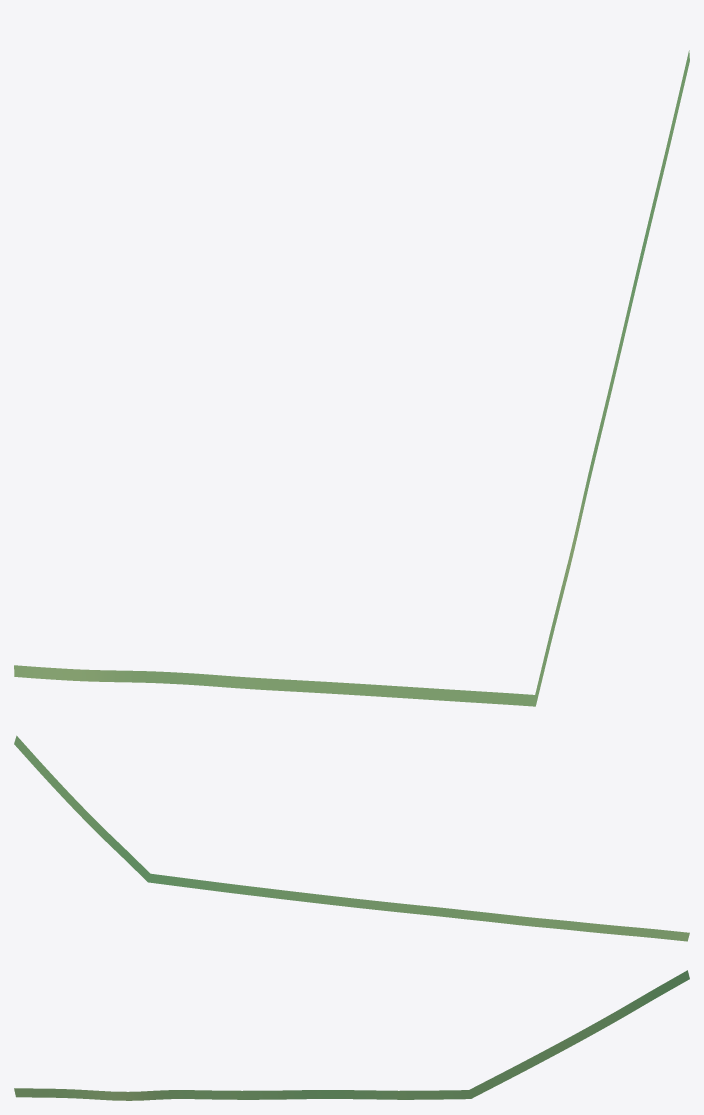
3 renders of one model, top to bottom at view 1: azimuth 30°, elevation 25°; view 2: azimuth 150°, elevation 25°; view 3: azimuth 270°, elevation 25°, orthographic. The views are drawn at different scales.
Visible parts, largest first — view 1: geometry_0; view 2: geometry_0; view 3: geometry_0.
Part boxes in pixels (x1,y1,x2,y2): geometry_0: (14, 50, 689, 706); geometry_0: (14, 735, 689, 941); geometry_0: (14, 970, 689, 1100).
Size of the model in its own units: 161961 by 47158 by 172961.
